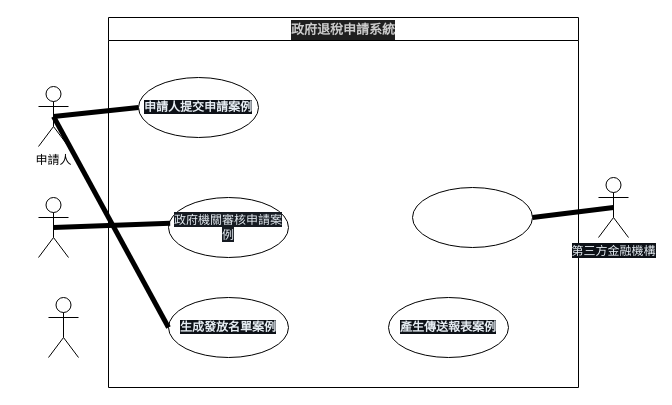
This 672x405 diagram has some shape labels left out. The box of each missing label's shape, as (x1, y1, x2, y2) in pixels:
健保局: (48, 296, 78, 358)
政府機關人員: (38, 196, 68, 258)
製作JSON格式案例: (412, 186, 532, 248)
